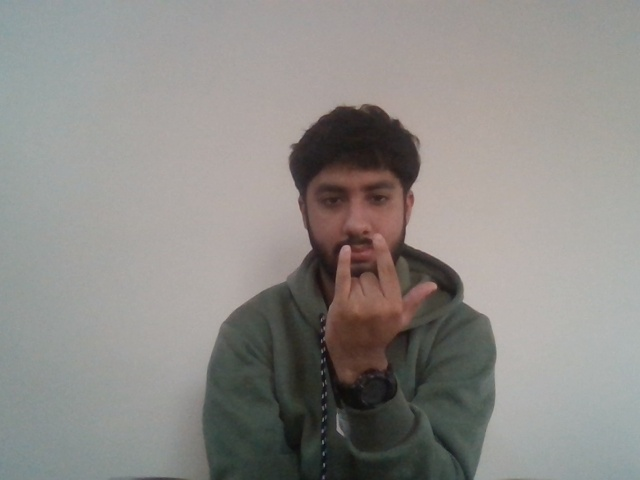IloveYou: (310, 231, 443, 351)
